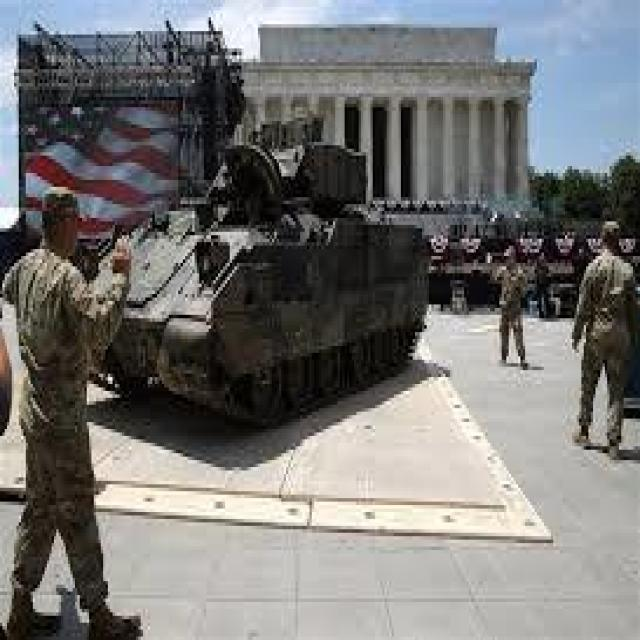Tanks: (98, 135, 429, 439)
